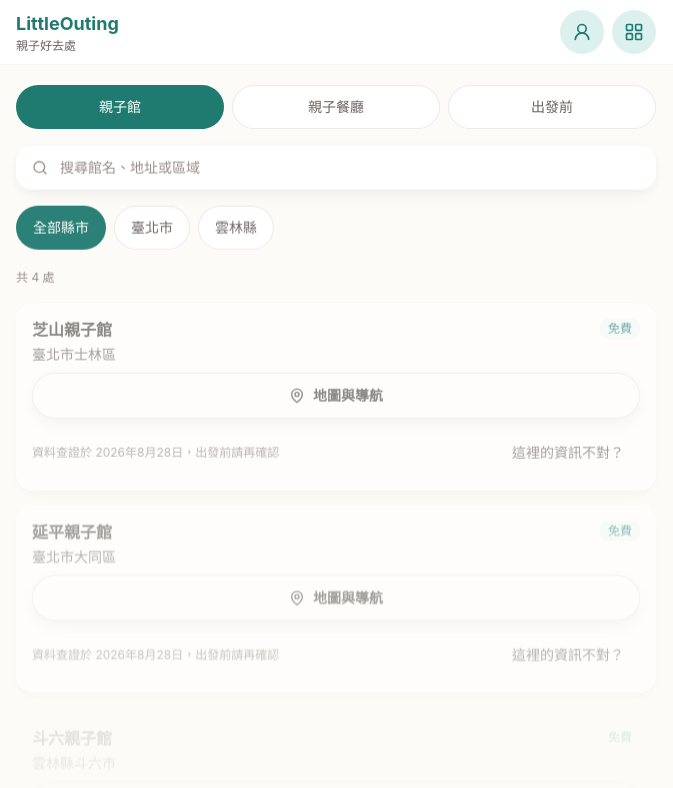
Test case: 切換分頁時的篩選狀態 › 切到親子餐廳時把縣市切回全部縣市
The image size is (673, 788).
Click the button "雲林縣".
click(236, 228)  # box 198,206 -> 274,250
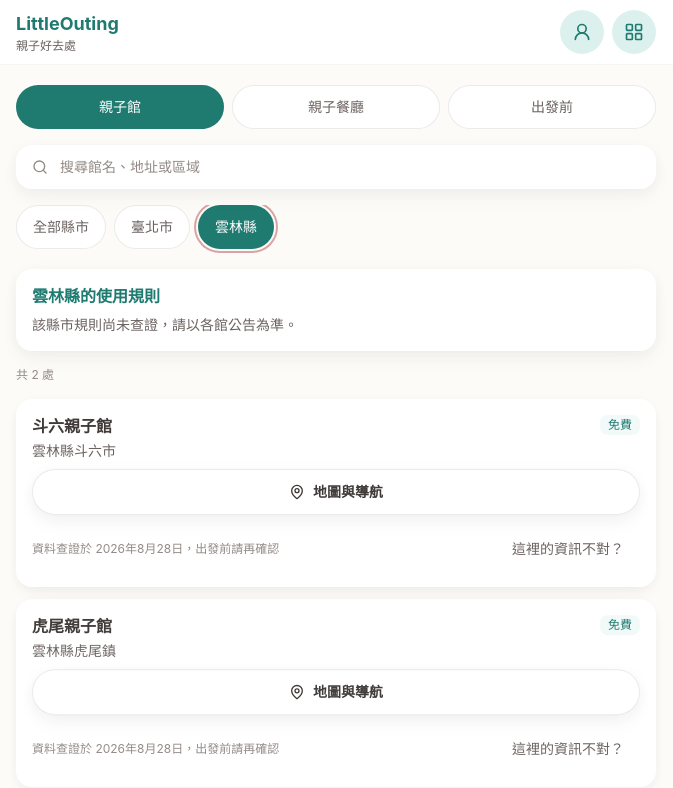
Now the button "雲林縣" is pressed, box 198,205 -> 274,249
Click the button "親子餐廳".
click(336, 107)  # box 232,85 -> 440,129
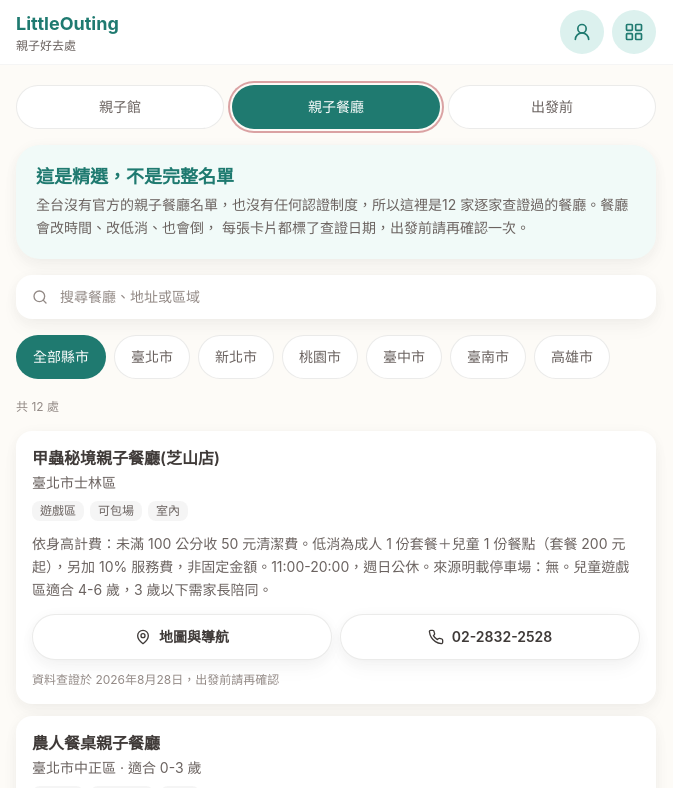
Now the heading "這是精選，不是完整名單" is shown, box 36,166 -> 234,187
